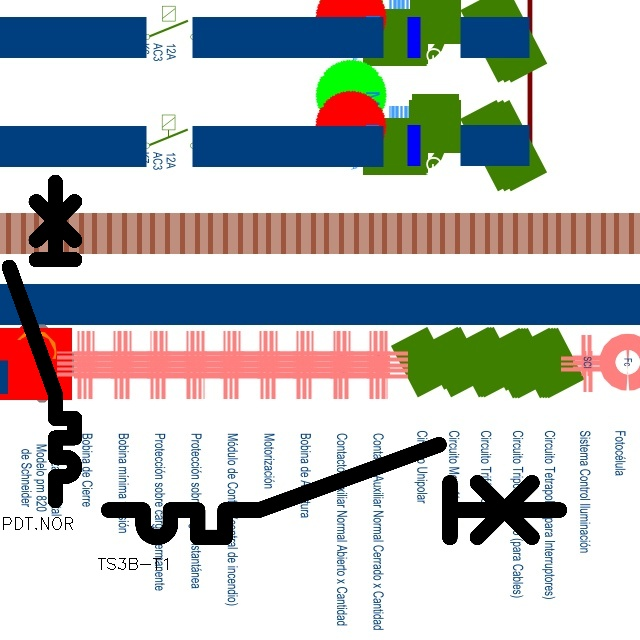interruptor_termomagnetico: (97, 433, 571, 549), (1, 174, 83, 509)
